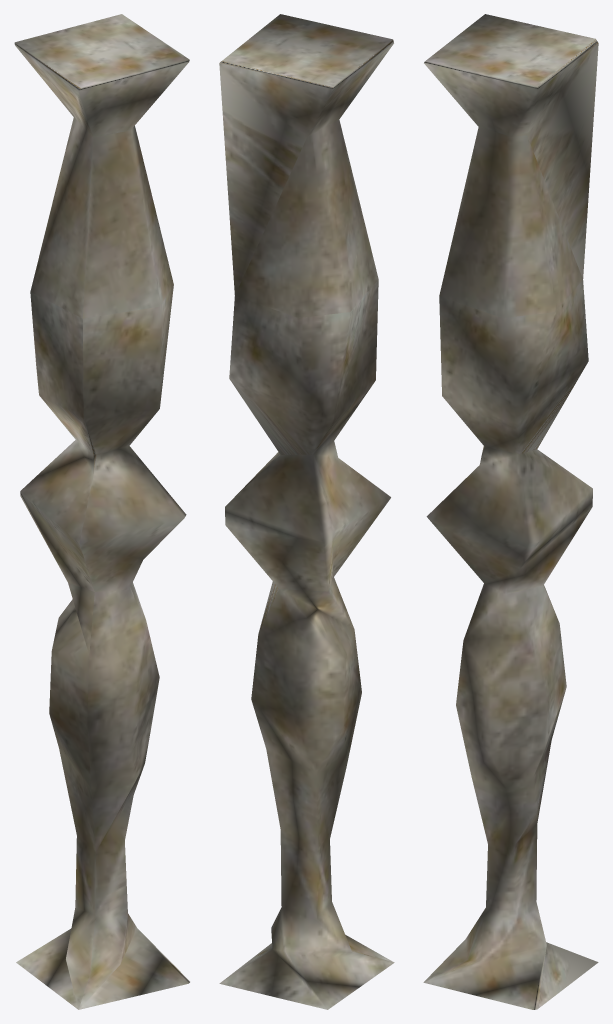
File: con-tien-da.glb
3 views of the same model, side by side, from view 1: azimuth 30°, elevation 25°; view 2: azimuth 150°, elevation 25°; view 3: azimuth 330°, elevation 25° (orthographic).
Visible parts, largest first — view 1: Object_2; view 2: Object_2; view 3: Object_2.
Part boxes in pixels (<box>): Object_2: <box>14,14,189,1009</box>; Object_2: <box>219,14,394,1009</box>; Object_2: <box>423,14,598,1009</box>.
Size of the model in its own units: 0.1294 by 0.9907 by 0.1294.
1 material, 1 textured.
